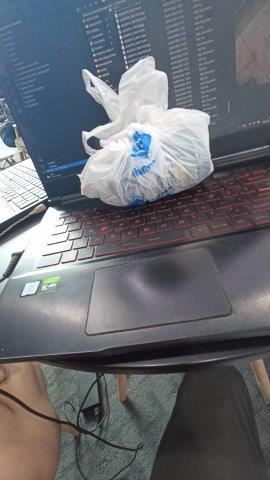plastik: (79, 57, 213, 205)
